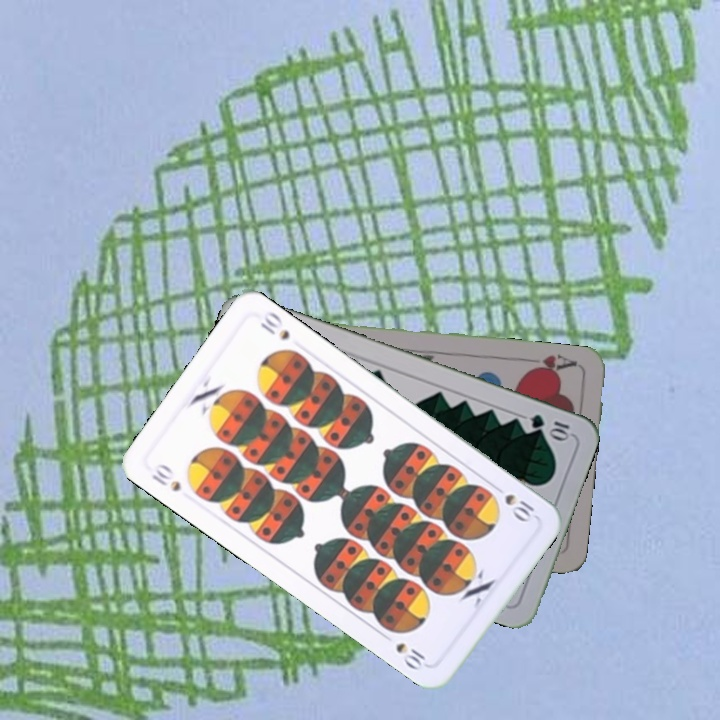G10: (526, 410, 572, 442)
HA: (522, 350, 580, 378)
S10: (500, 489, 537, 525), (147, 459, 184, 494)
